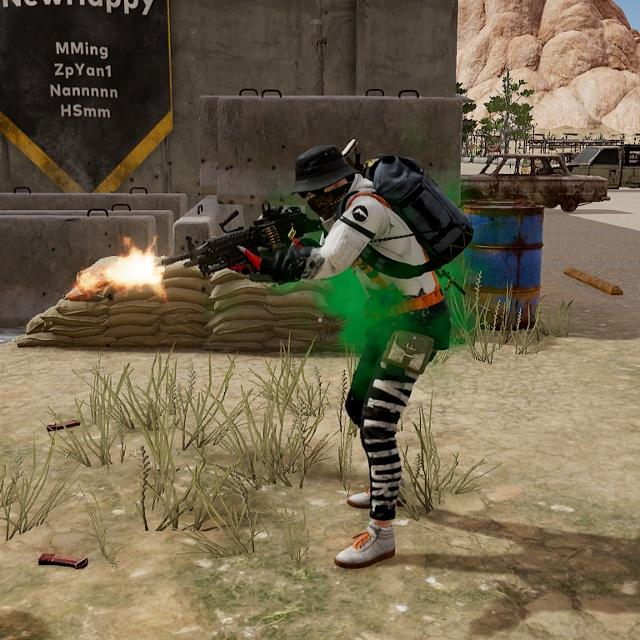head: (287, 136, 365, 225)
people: (251, 126, 465, 576)
